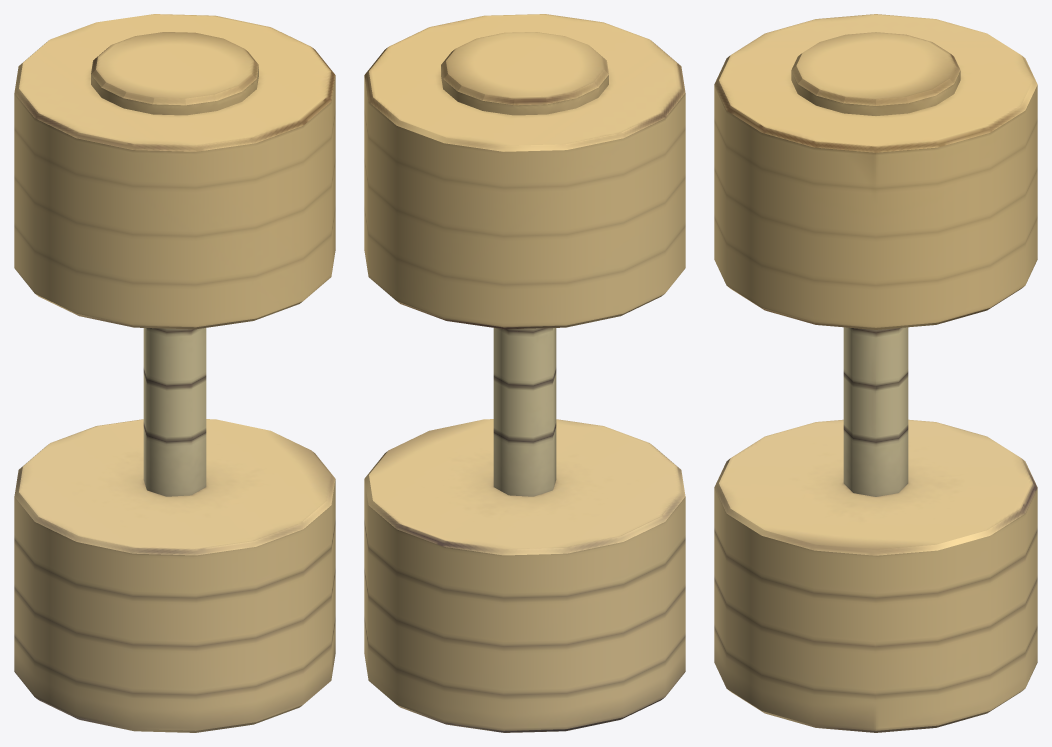
Rendered from MeleeWeaponAgent_GoldDumbbell.fbx.
3 views of the same model, side by side, from view 1: azimuth 30°, elevation 25°; view 2: azimuth 150°, elevation 25°; view 3: azimuth 270°, elevation 25° (orthographic).
Parts seen in each view (by area): view 1: MazoniGoldenDumbbell; view 2: MazoniGoldenDumbbell; view 3: MazoniGoldenDumbbell.
Part boxes in pixels (x1=…): MazoniGoldenDumbbell: x1=14, y1=14, x2=335, y2=732; MazoniGoldenDumbbell: x1=364, y1=14, x2=685, y2=732; MazoniGoldenDumbbell: x1=714, y1=14, x2=1037, y2=732.
Size of the model in its own units: 0.5407 by 1.14 by 0.5407.
